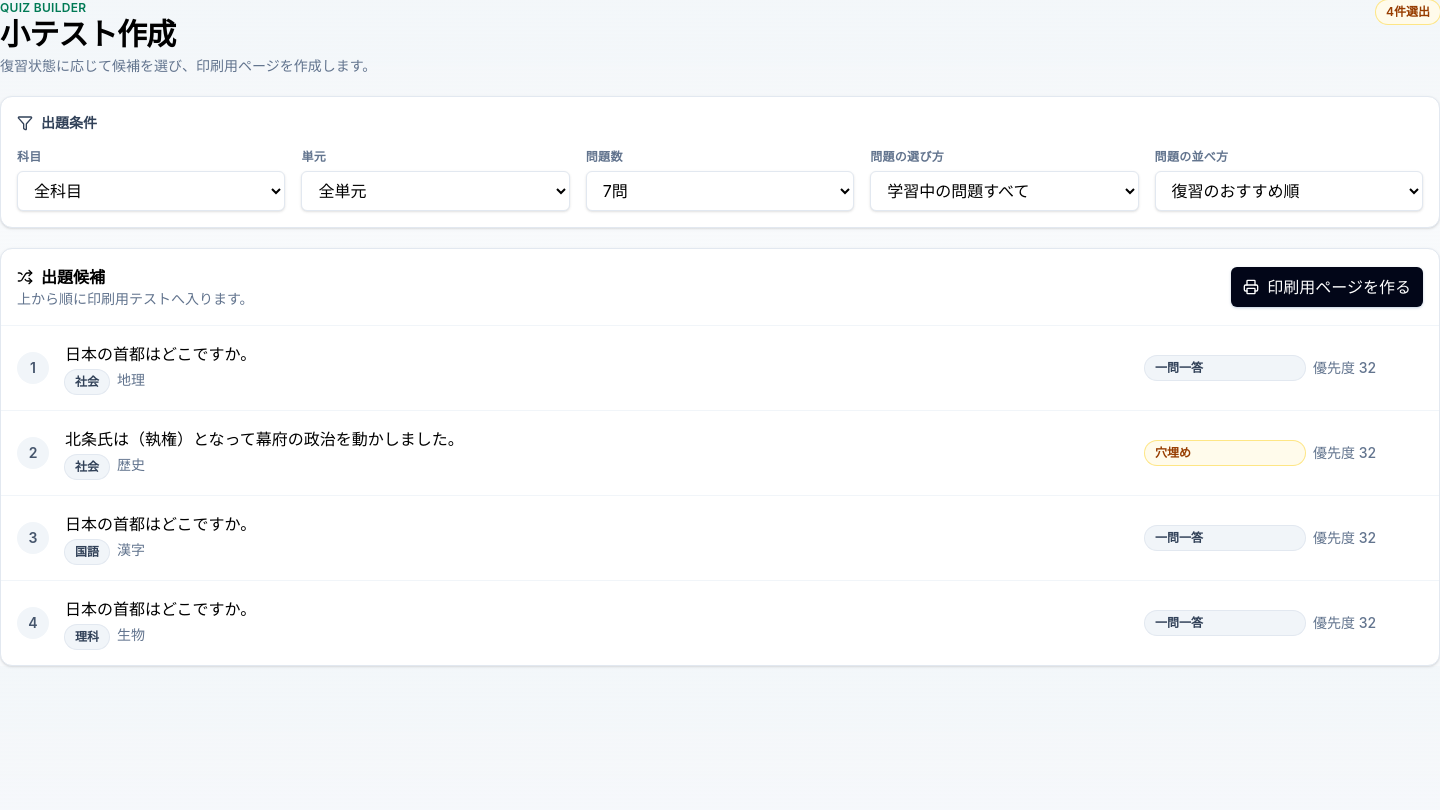
QuizBuilderPage › shows only units for the selected subject and clears the selected unit when the subject changes
Step 1. Select "社会" in the dropdown labelled "科目" → (151, 191), box [17, 171, 285, 211]
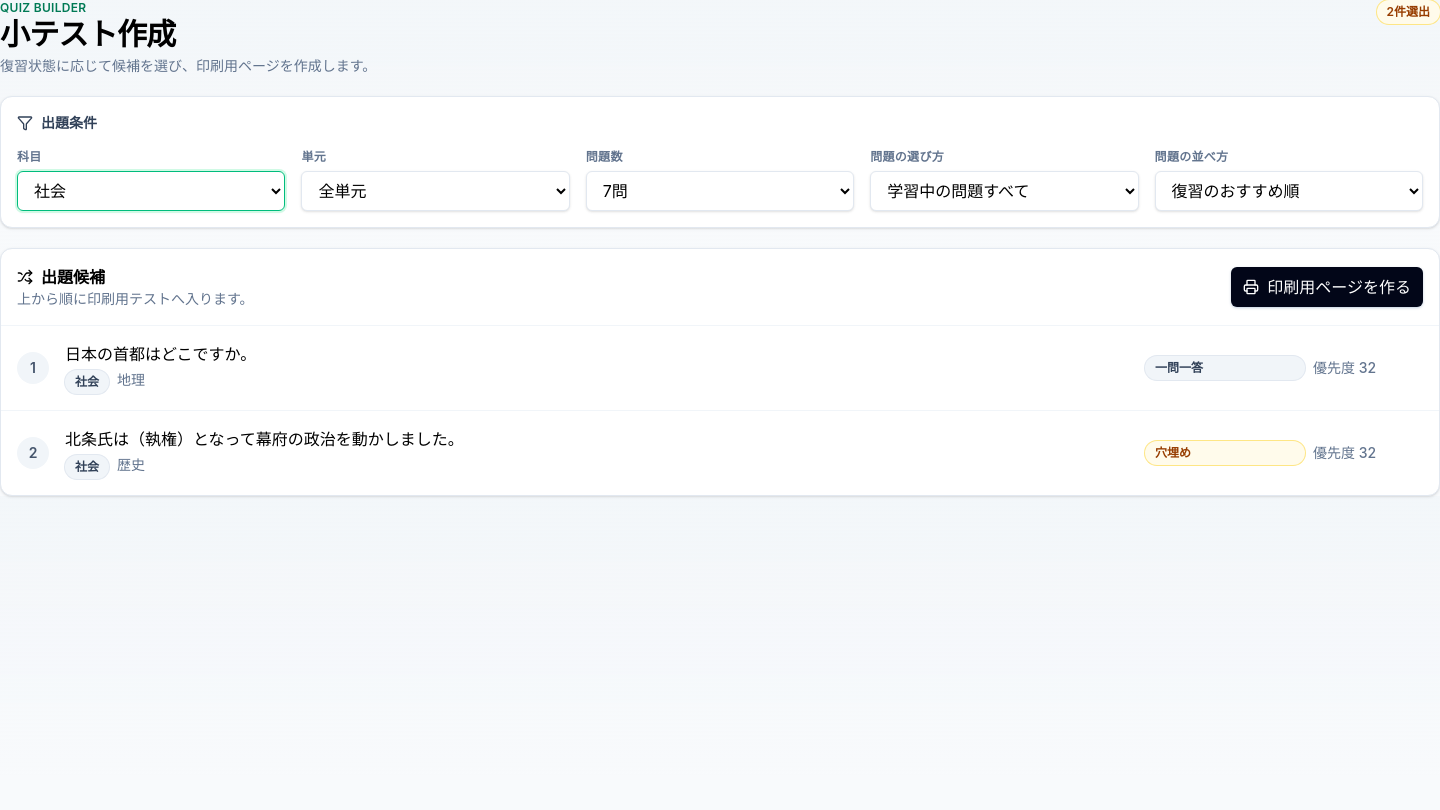
Result: the text "漢字" is gone
Result: the text "生物" is gone
Step 2. Select "地理" in the dropdown labelled "単元" → (436, 191), box [301, 171, 570, 211]
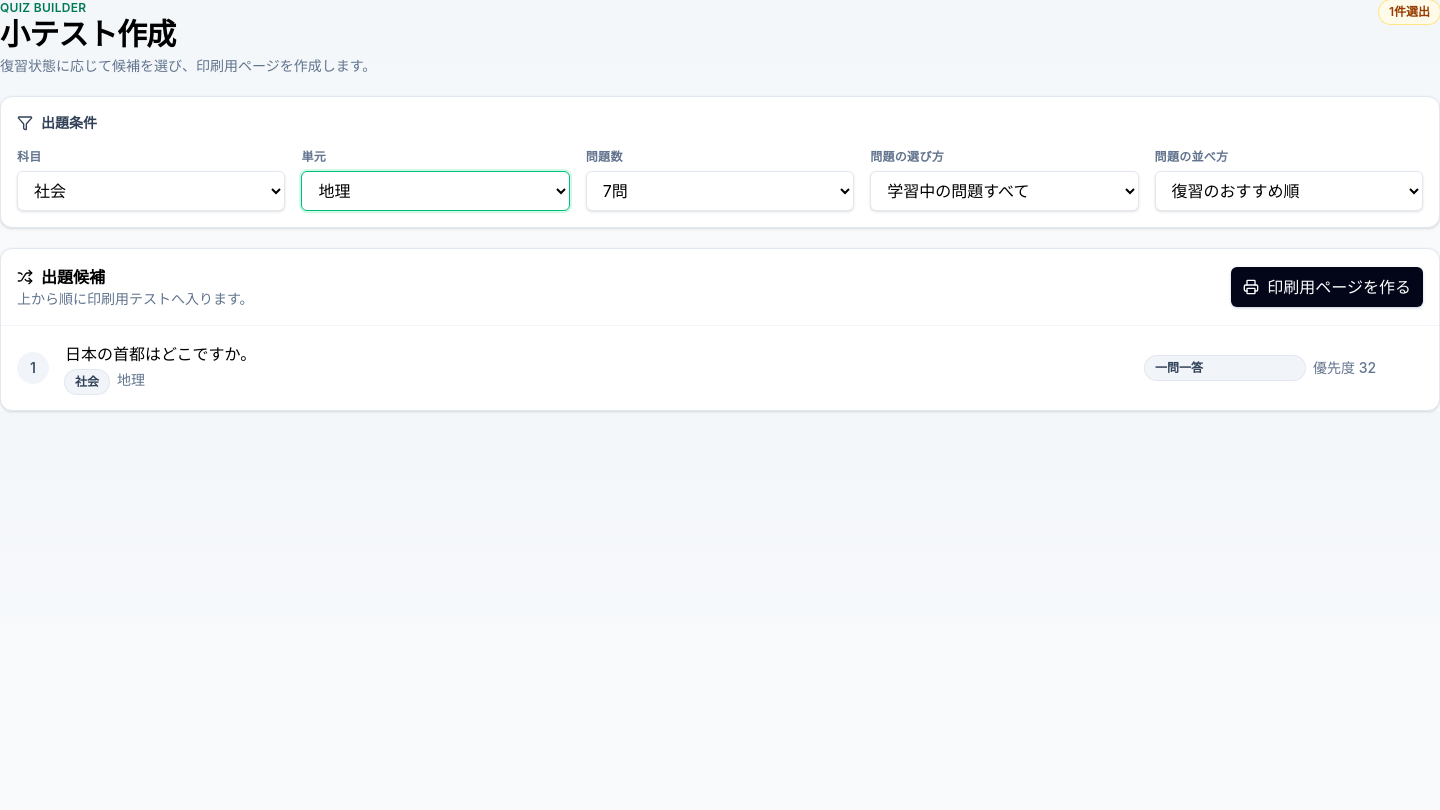
Step 3. Select "理科" in the dropdown labelled "科目" → (151, 191), box [17, 171, 285, 211]
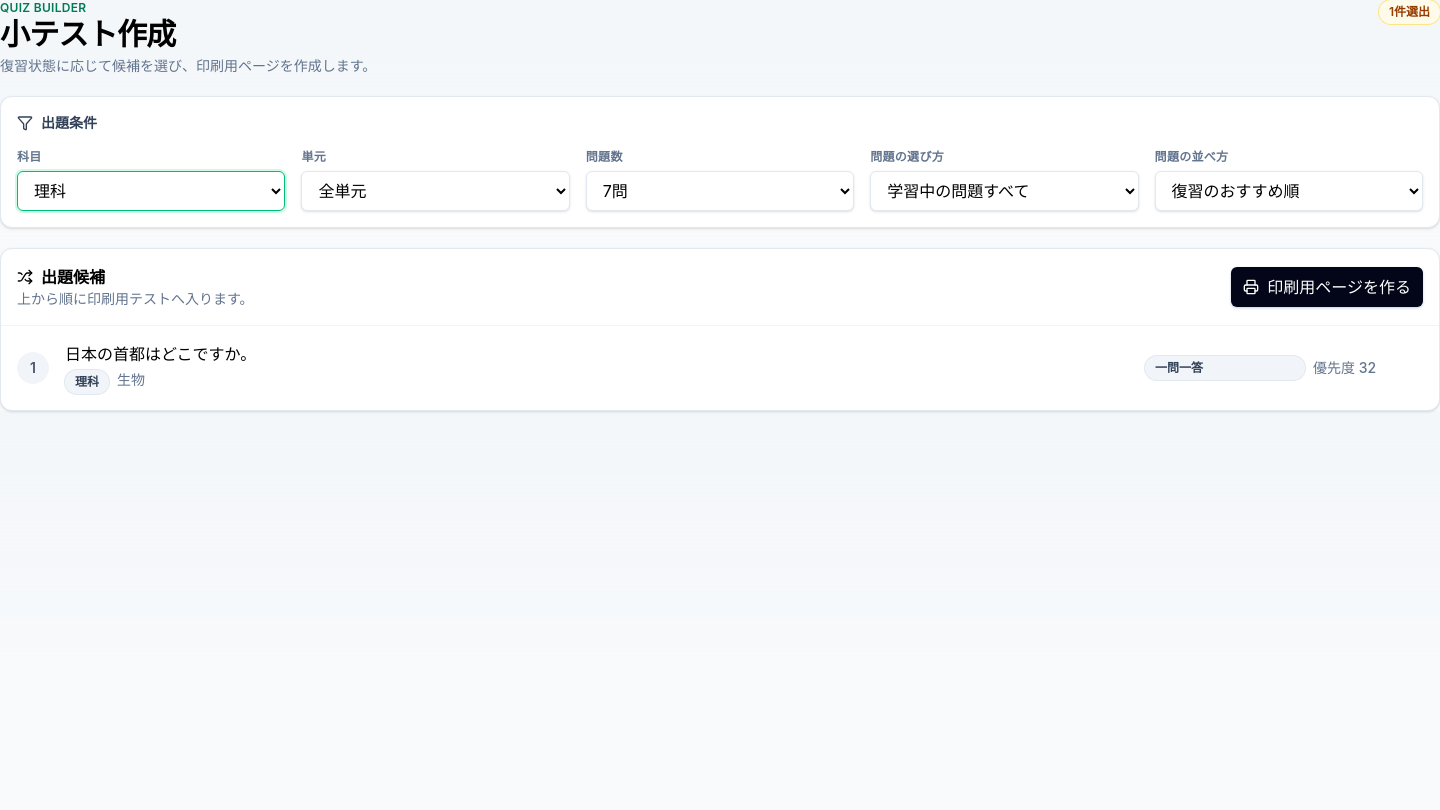
Result: the text "地理" is gone
